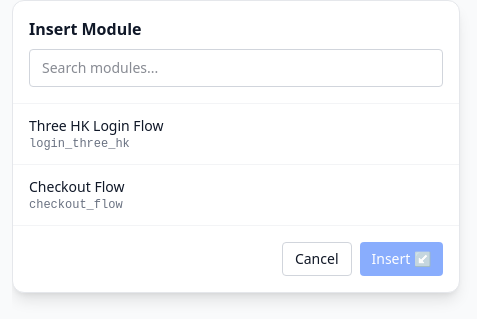
Test: InsertModulePicker › 3. search filters visible modules
This screenshot has width=477, height=319.
Expected: the text "Three HK Login Flow" is shown, x1=29 y1=116 x2=164 y2=135
Type "checkout" into the field with placeholder "Search modules...". click: (236, 68)
box: x1=29 y1=49 x2=443 y2=87
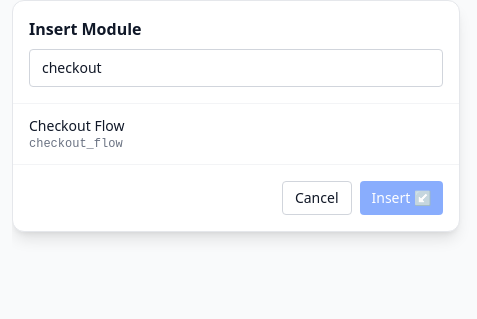
Expected: the text "Checkout Flow" is shown, x1=29 y1=116 x2=124 y2=135
Expected: the button "Three HK Login Flow" is gone
